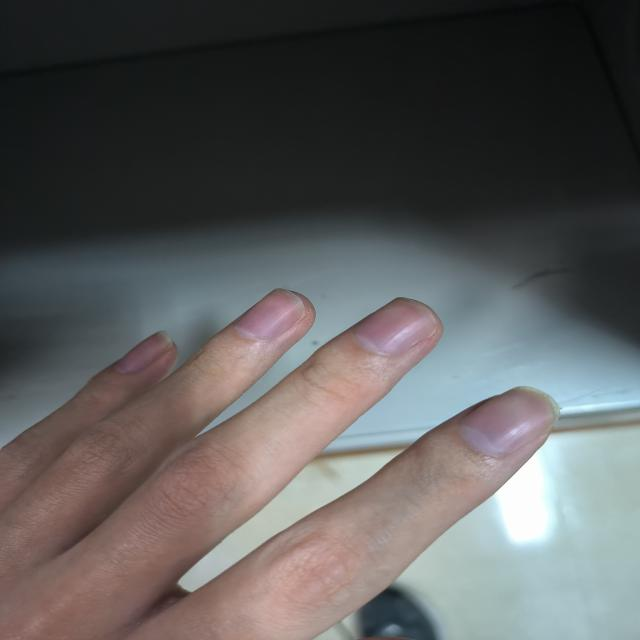Nail: (460, 386, 559, 456), (355, 297, 436, 355), (235, 288, 303, 339), (117, 330, 172, 371)
